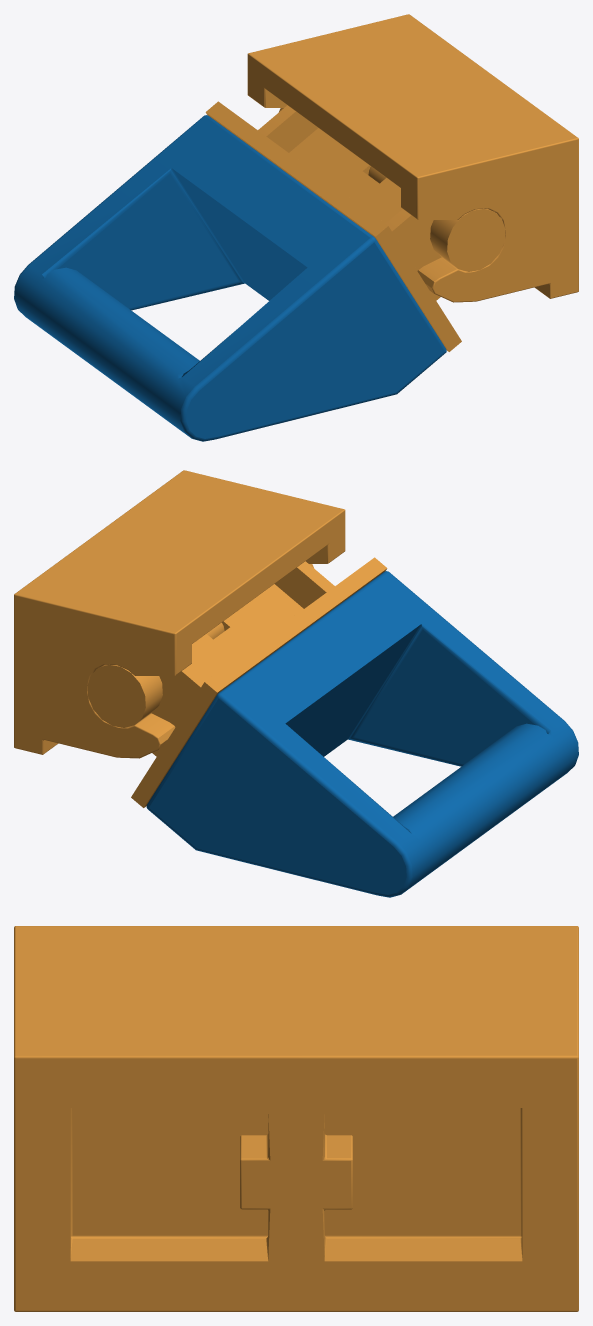
File: handle.fbx
3 views of the same model, one above another, from view 1: azimuth 30°, elevation 25°; view 2: azimuth 150°, elevation 25°; view 3: azimuth 270°, elevation 25° (orthographic). The views are drawn at different scales.
Visible parts, largest first — view 1: 00003_2432.dat, 00001_3937.dat, 00002_3938.dat; view 2: 00003_2432.dat, 00001_3937.dat, 00002_3938.dat; view 3: 00001_3937.dat.
Boxes of the visible parts, bbox=[...] form: 00003_2432.dat: bbox=[14, 115, 446, 441]; 00001_3937.dat: bbox=[247, 14, 578, 302]; 00002_3938.dat: bbox=[205, 101, 505, 351]; 00003_2432.dat: bbox=[146, 571, 578, 897]; 00001_3937.dat: bbox=[14, 470, 345, 758]; 00002_3938.dat: bbox=[87, 557, 387, 807]; 00001_3937.dat: bbox=[14, 926, 578, 1311].
Bounding box in the file's own units: 53.87 × 27.77 × 40.
